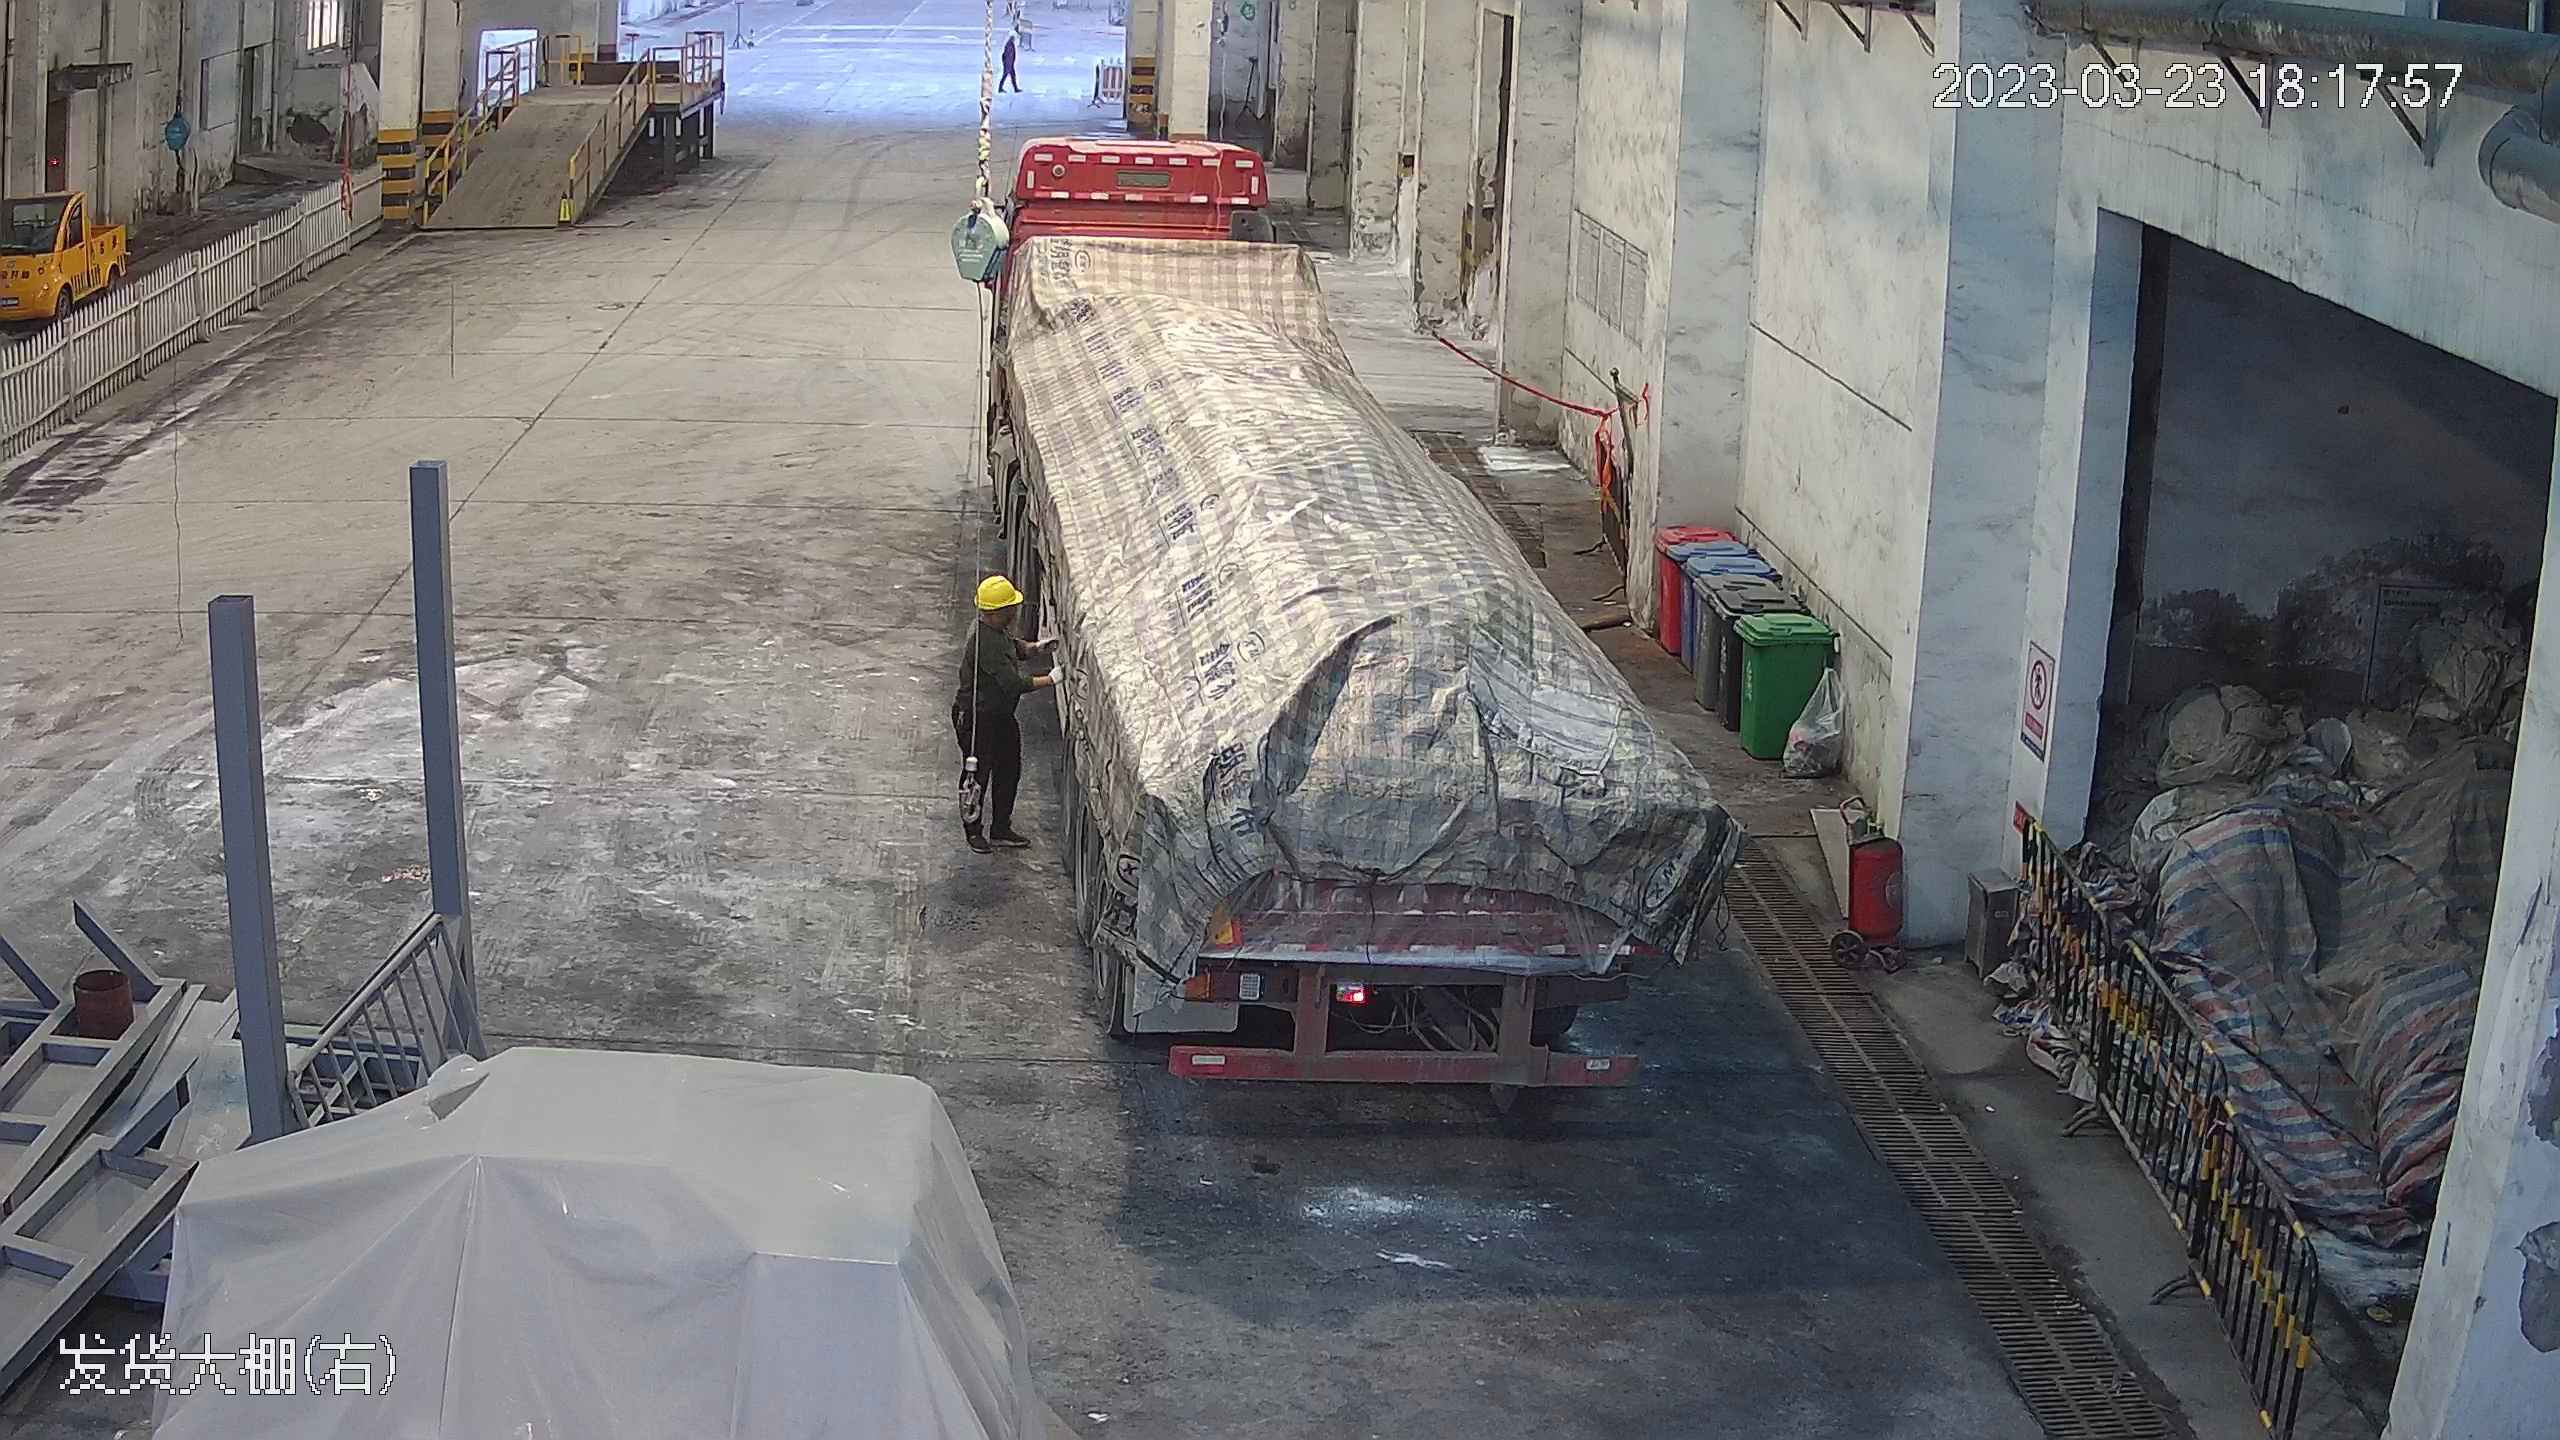head: (961, 572, 1037, 664)
helmet: (973, 573, 1023, 610)
people: (953, 572, 1050, 858), (994, 23, 1026, 98)
truck: (965, 108, 1736, 1094)
